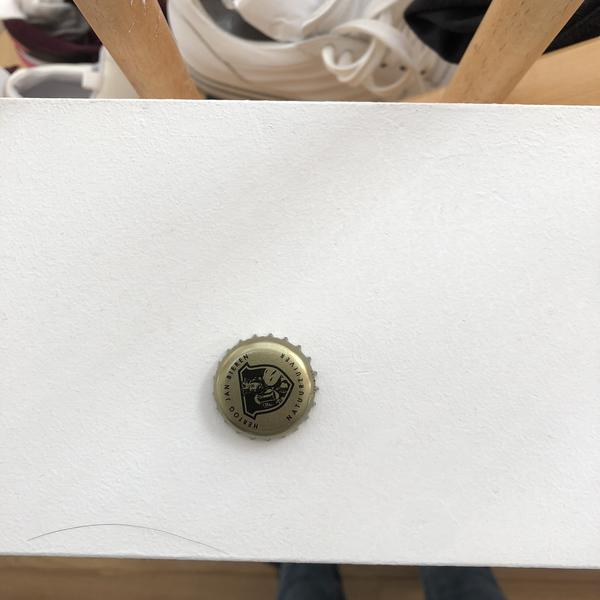hertogjan: (212, 334, 320, 442)
